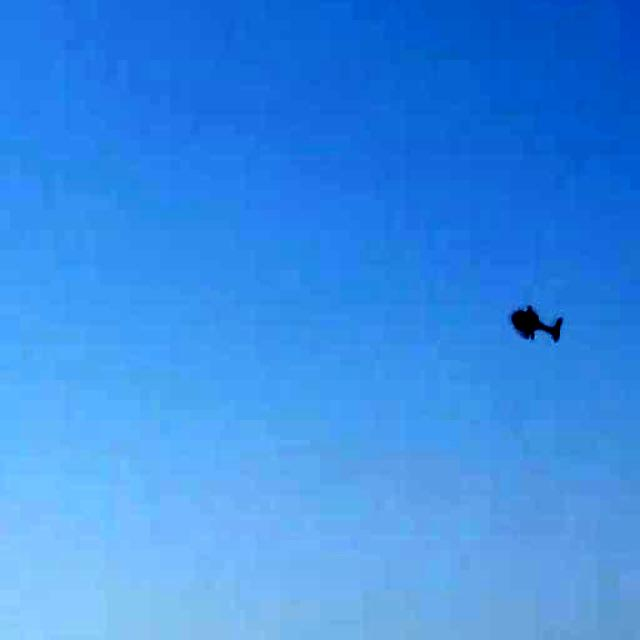drone: (498, 291, 585, 371)
